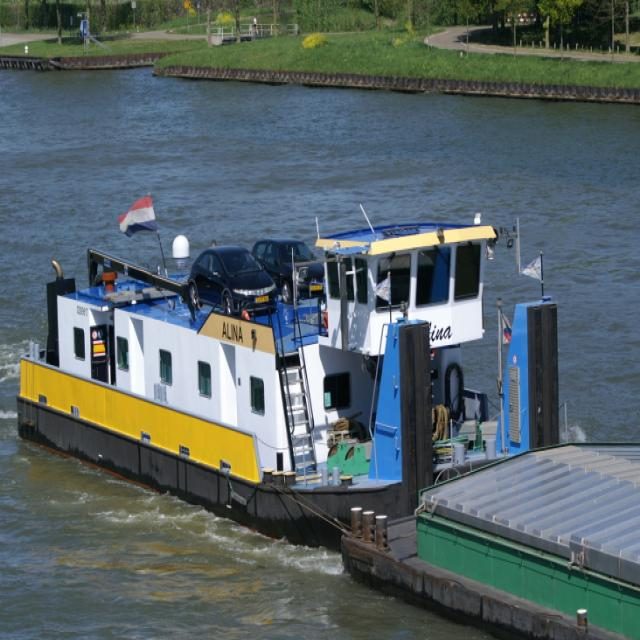tugboat: (16, 193, 567, 555)
